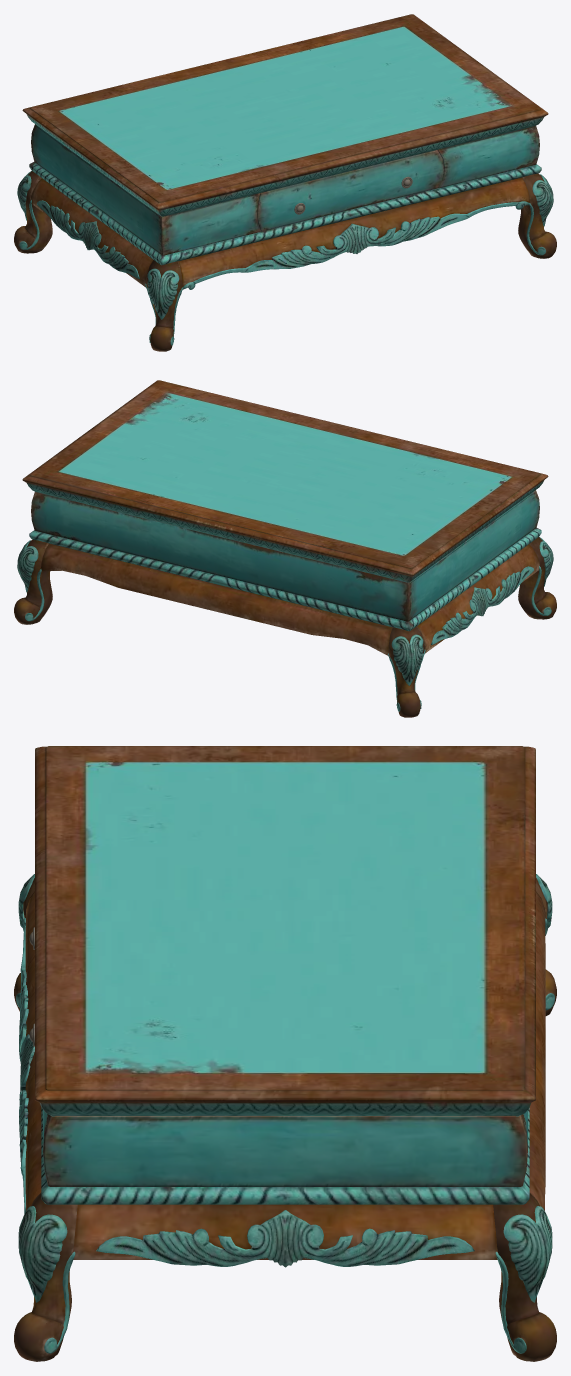
Rendered from ph-CoffeeTable_01.glb.
3 renders of one model, top to bottom at view 1: azimuth 30°, elevation 25°; view 2: azimuth 150°, elevation 25°; view 3: azimuth 270°, elevation 25°, orthographic. The views are drawn at different scales.
Parts seen in each view (by area): view 1: CoffeeTable_01; view 2: CoffeeTable_01; view 3: CoffeeTable_01.
Boxes of the visible parts, x1,y1,x2,y2 form: CoffeeTable_01: (14, 14, 556, 351); CoffeeTable_01: (14, 380, 556, 717); CoffeeTable_01: (14, 746, 556, 1361).
Size of the model in its own units: 1 by 0.3397 by 0.6317.
1 material, 1 textured.
